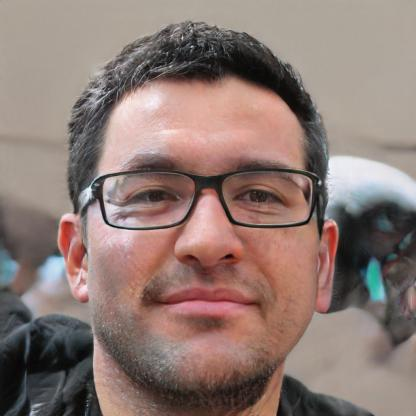glasses: (83, 160, 324, 231)
